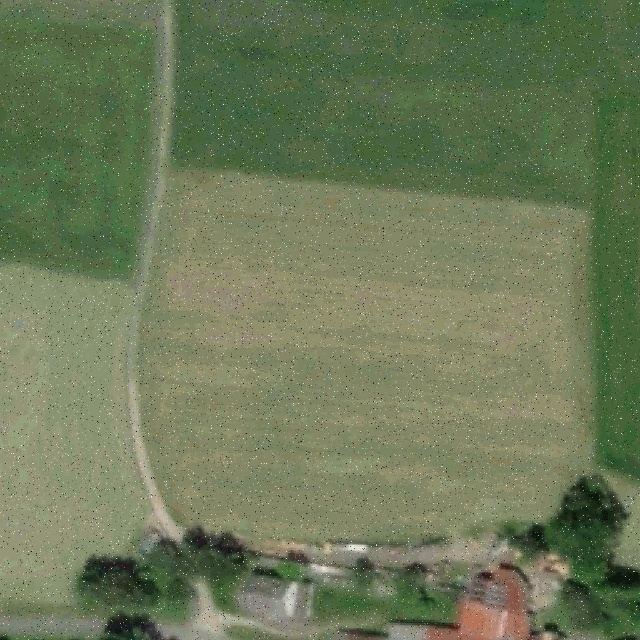vegetation: (508, 470, 638, 640), (77, 524, 254, 640)
